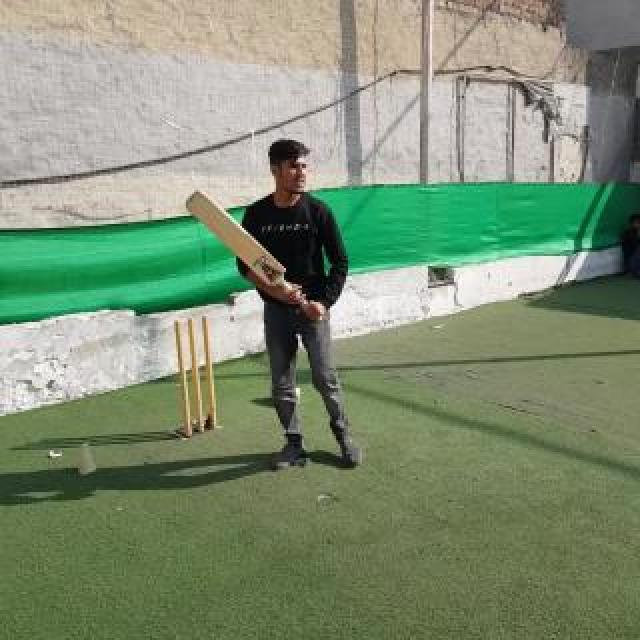bat: (186, 190, 326, 320)
